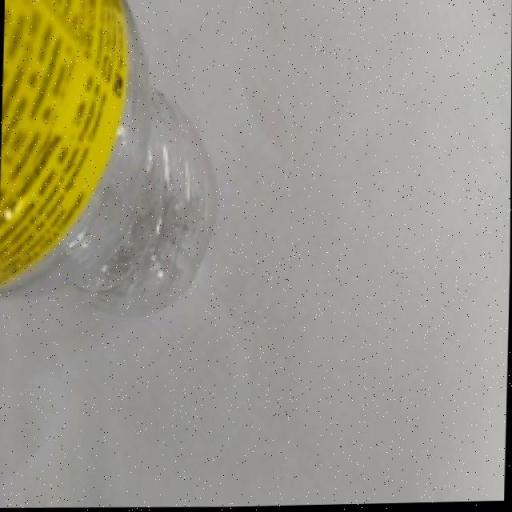plastic: (0, 0, 258, 343)
